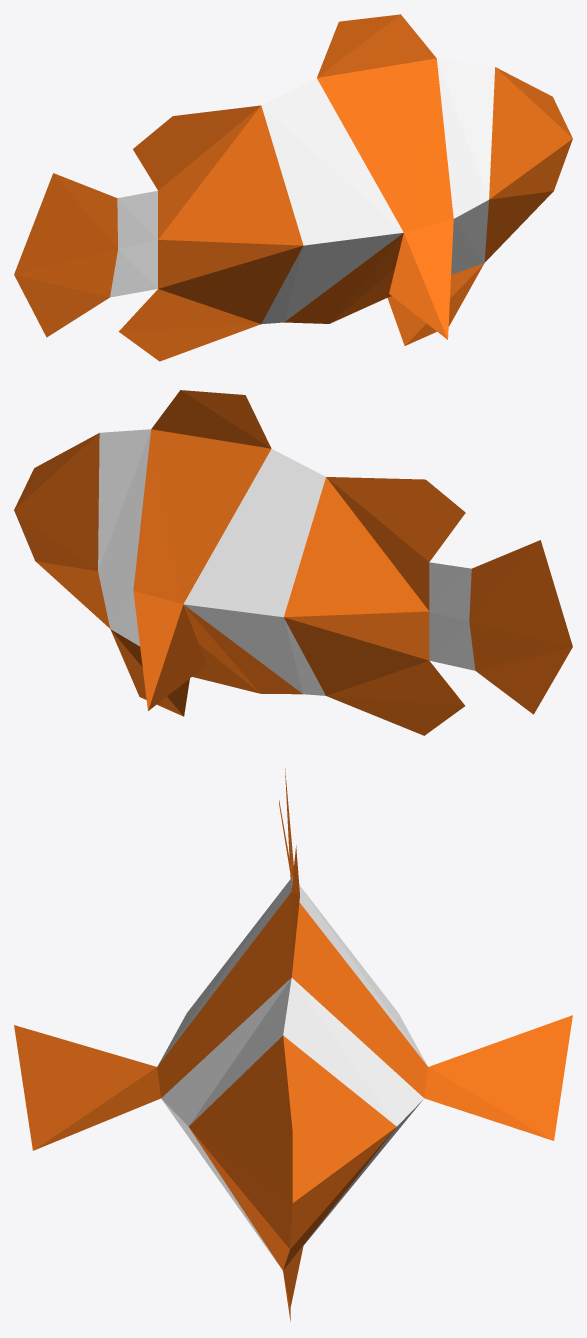
Rendered from fish5.obj.
3 renders of one model, top to bottom at view 1: azimuth 30°, elevation 25°; view 2: azimuth 150°, elevation 25°; view 3: azimuth 270°, elevation 25°, orthographic. The views are drawn at different scales.
Size of the model in its own units: 2.37 by 1.37 by 1.64.
